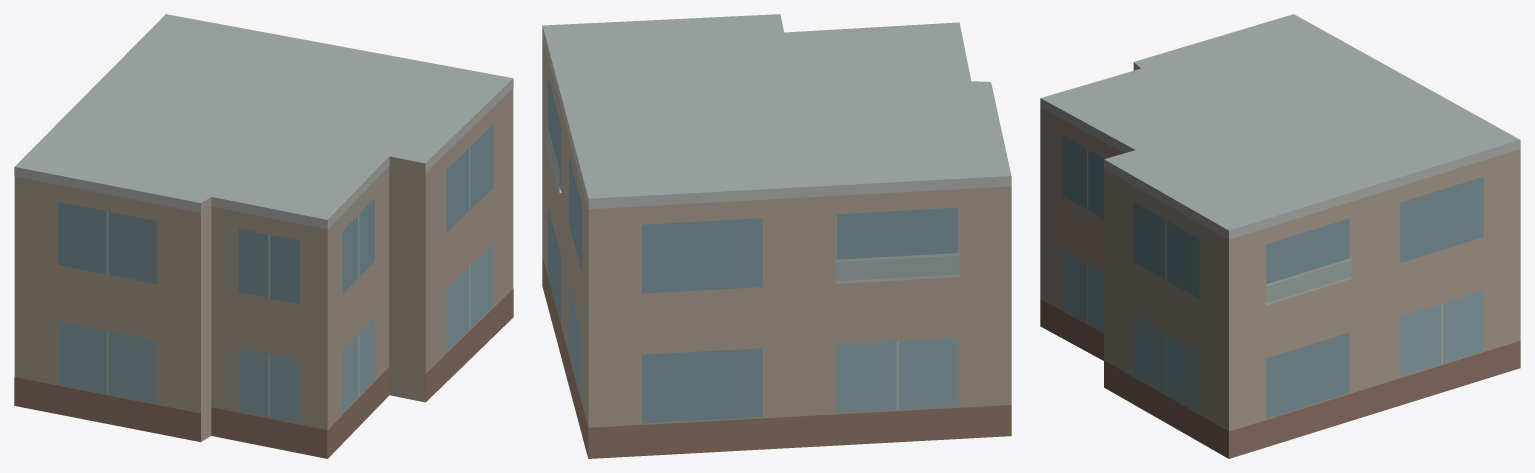
Rendered from survey-upis-32928681.glb.
3 renders of one model, left to right at view 1: azimuth 30°, elevation 25°; view 2: azimuth 150°, elevation 25°; view 3: azimuth 270°, elevation 25°, orthographic. The views are drawn at different scales.
Visible parts, largest first — view 1: survey-upis-32928681.tmp; view 2: survey-upis-32928681.tmp; view 3: survey-upis-32928681.tmp.
Boxes of the visible parts, x1,y1,x2,y2 form: survey-upis-32928681.tmp: (14,14,513,458); survey-upis-32928681.tmp: (542,14,1011,458); survey-upis-32928681.tmp: (1040,14,1520,458).
Size of the model in its own units: 12.43 by 6.1 by 11.64.
